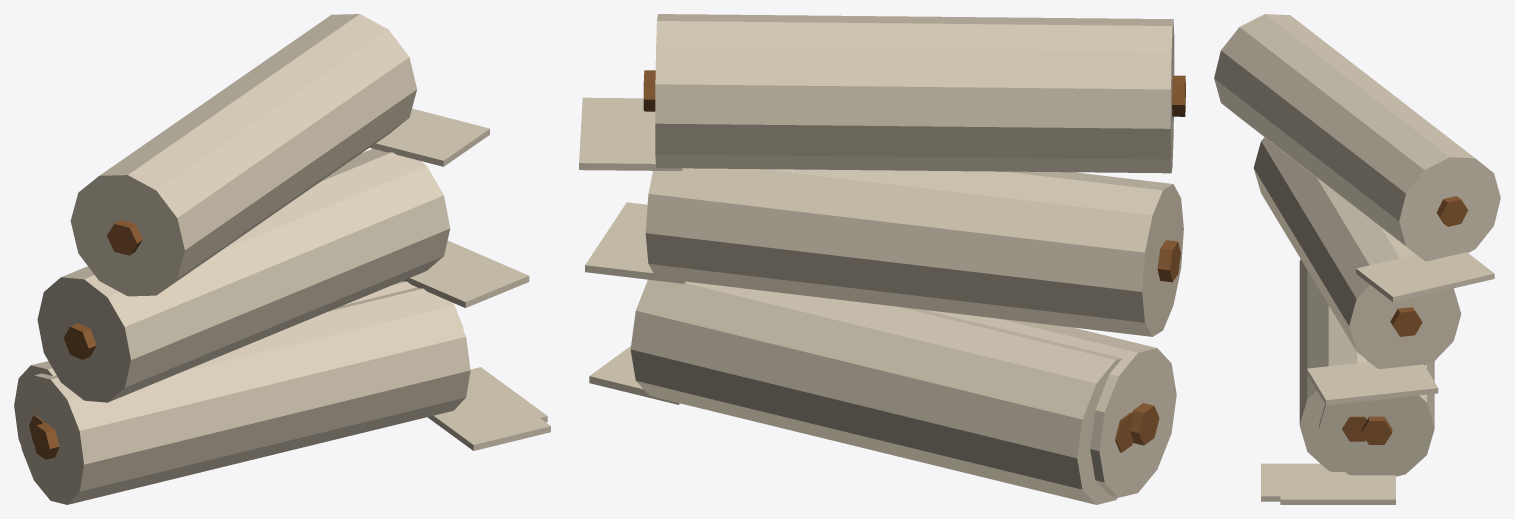
File: Cloth_Wool.fbx
3 views of the same model, side by side, from view 1: azimuth 30°, elevation 25°; view 2: azimuth 150°, elevation 25°; view 3: azimuth 270°, elevation 25° (orthographic). The views are drawn at different scales.
Visible parts, largest first — view 1: Cloth_Wool__Stack, Cloth_Wool; view 2: Cloth_Wool__Stack, Cloth_Wool; view 3: Cloth_Wool__Stack, Cloth_Wool.
Part boxes in pixels (x1,y1,x2,y2): Cloth_Wool__Stack: (17,14,550,504); Cloth_Wool: (14,281,547,444); Cloth_Wool__Stack: (579,14,1185,497); Cloth_Wool: (589,279,1133,504); Cloth_Wool__Stack: (1214,14,1500,501); Cloth_Wool: (1280,360,1434,504).
Size of the model in its own units: 0.2433 by 0.1776 by 0.1485.
